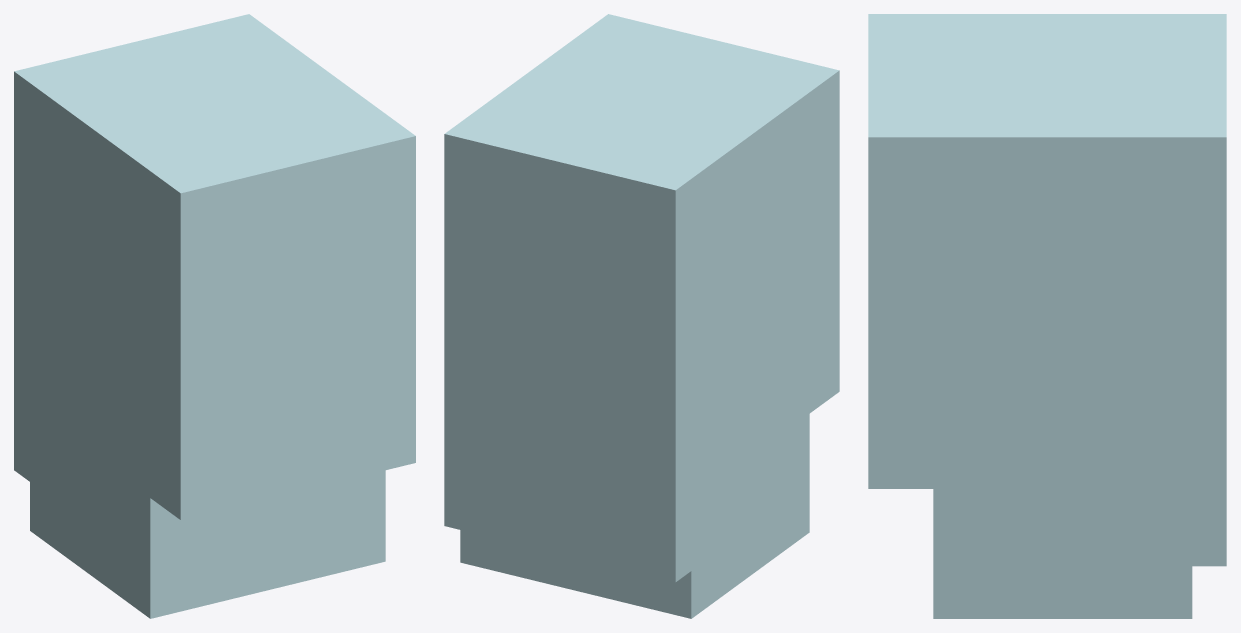
File: dishwasher_450.glb
The picture shows the model from 3 angles, left to right: view 1: azimuth 30°, elevation 25°; view 2: azimuth 150°, elevation 25°; view 3: azimuth 270°, elevation 25°; orthographic projection. The views are drawn at different scales.
Visible parts, largest first — view 1: VIFS001; view 2: VIFS001; view 3: VIFS001.
Boxes of the visible parts, x1=… form: VIFS001: x1=14, y1=14, x2=415, y2=618; VIFS001: x1=444, y1=14, x2=839, y2=618; VIFS001: x1=868, y1=14, x2=1226, y2=618.
Size of the model in its own units: 0.448 by 0.815 by 0.55.
